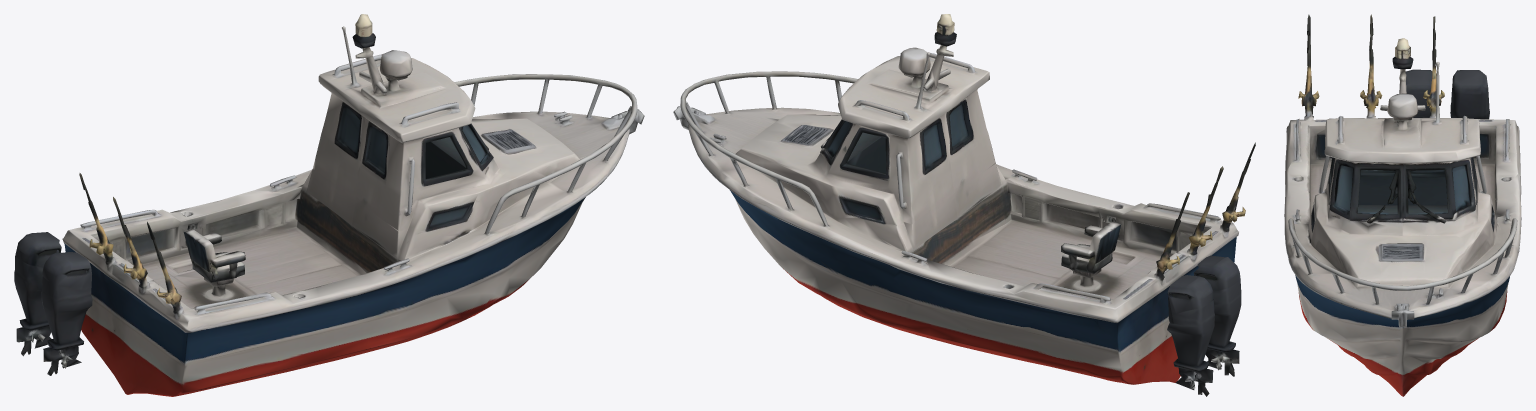
Rendered from boat-cutter.glb.
3 views of the same model, side by side, from view 1: azimuth 30°, elevation 25°; view 2: azimuth 150°, elevation 25°; view 3: azimuth 270°, elevation 25° (orthographic). The views are drawn at different scales.
Visible parts, largest first — view 1: tripo_node_e0086051-3397-47bd-b2ac-5e007f0ac92d; view 2: tripo_node_e0086051-3397-47bd-b2ac-5e007f0ac92d; view 3: tripo_node_e0086051-3397-47bd-b2ac-5e007f0ac92d.
Part boxes in pixels (<box>): tripo_node_e0086051-3397-47bd-b2ac-5e007f0ac92d: <box>14,14,644,396</box>; tripo_node_e0086051-3397-47bd-b2ac-5e007f0ac92d: <box>673,14,1255,396</box>; tripo_node_e0086051-3397-47bd-b2ac-5e007f0ac92d: <box>1284,14,1521,396</box>.
Size of the model in its own units: 0.978 by 0.5215 by 0.3705.
1 material, 1 textured.
